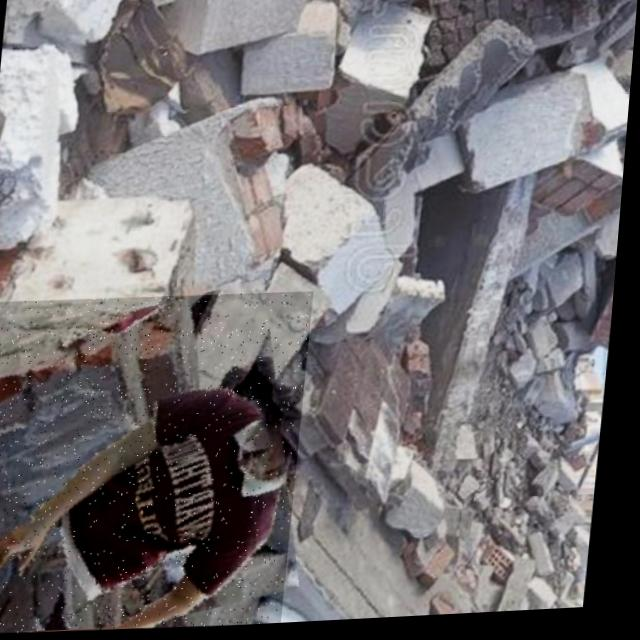Person in Rubble: (0, 288, 318, 640)
